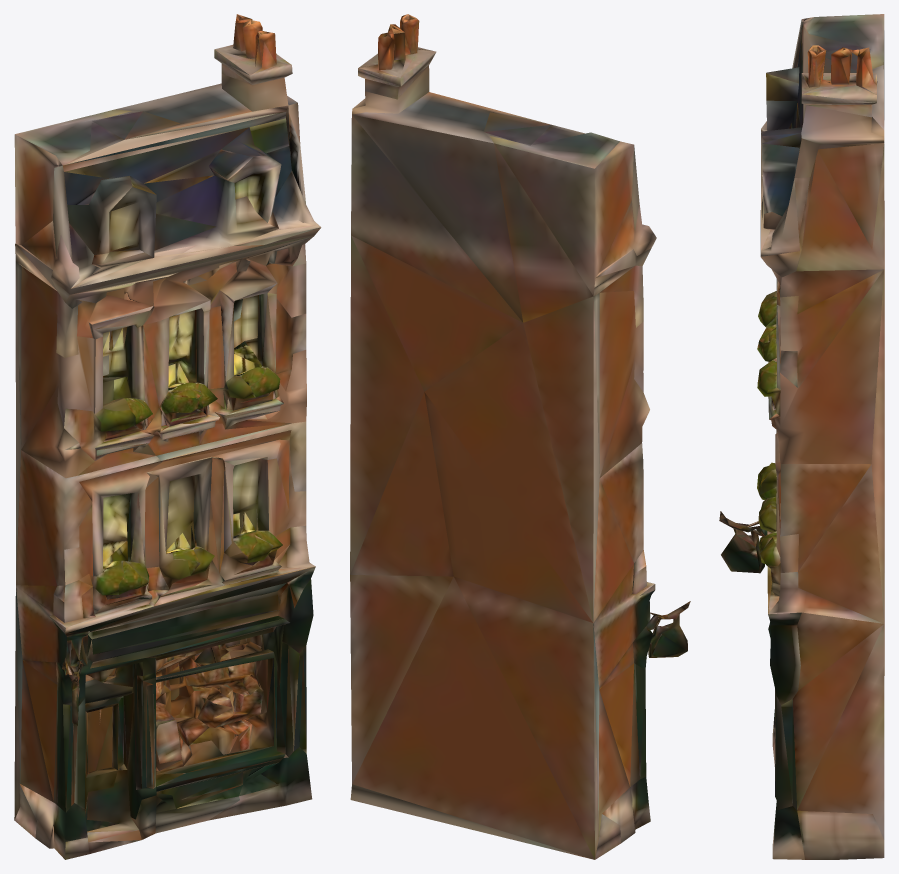
Rendered from getkong-haus9.glb.
3 renders of one model, left to right at view 1: azimuth 30°, elevation 25°; view 2: azimuth 150°, elevation 25°; view 3: azimuth 270°, elevation 25°, orthographic. The views are drawn at different scales.
Visible parts, largest first — view 1: output_unwrapped; view 2: output_unwrapped; view 3: output_unwrapped.
Boxes of the visible parts, <box> form: output_unwrapped: <box>14,14,321,859</box>; output_unwrapped: <box>350,14,690,859</box>; output_unwrapped: <box>719,14,884,859</box>.
Size of the model in its own units: 0.6957 by 1.9 by 0.3571.
1 material, 1 textured.
